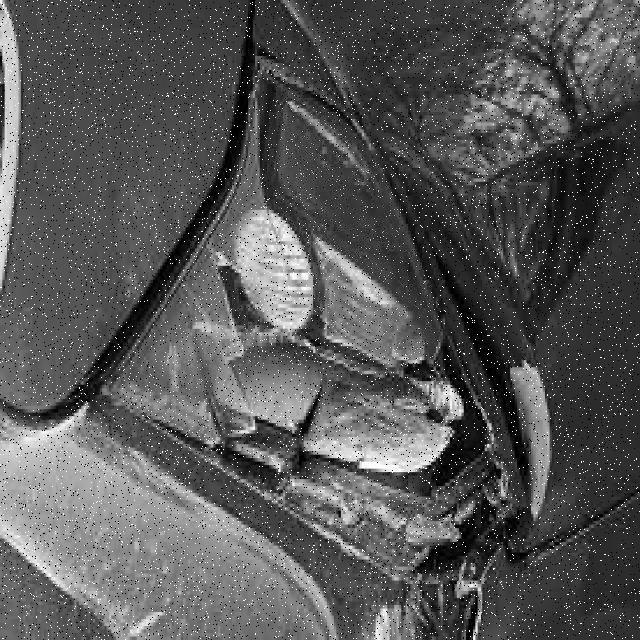Taillight-Damage: (122, 39, 535, 591)
